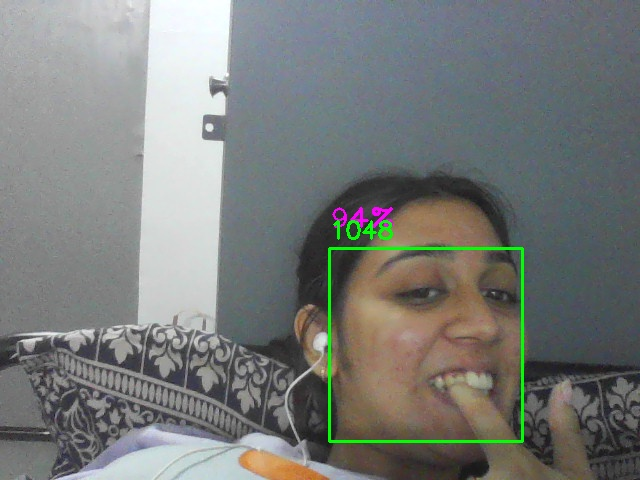real: (329, 248, 523, 442)
